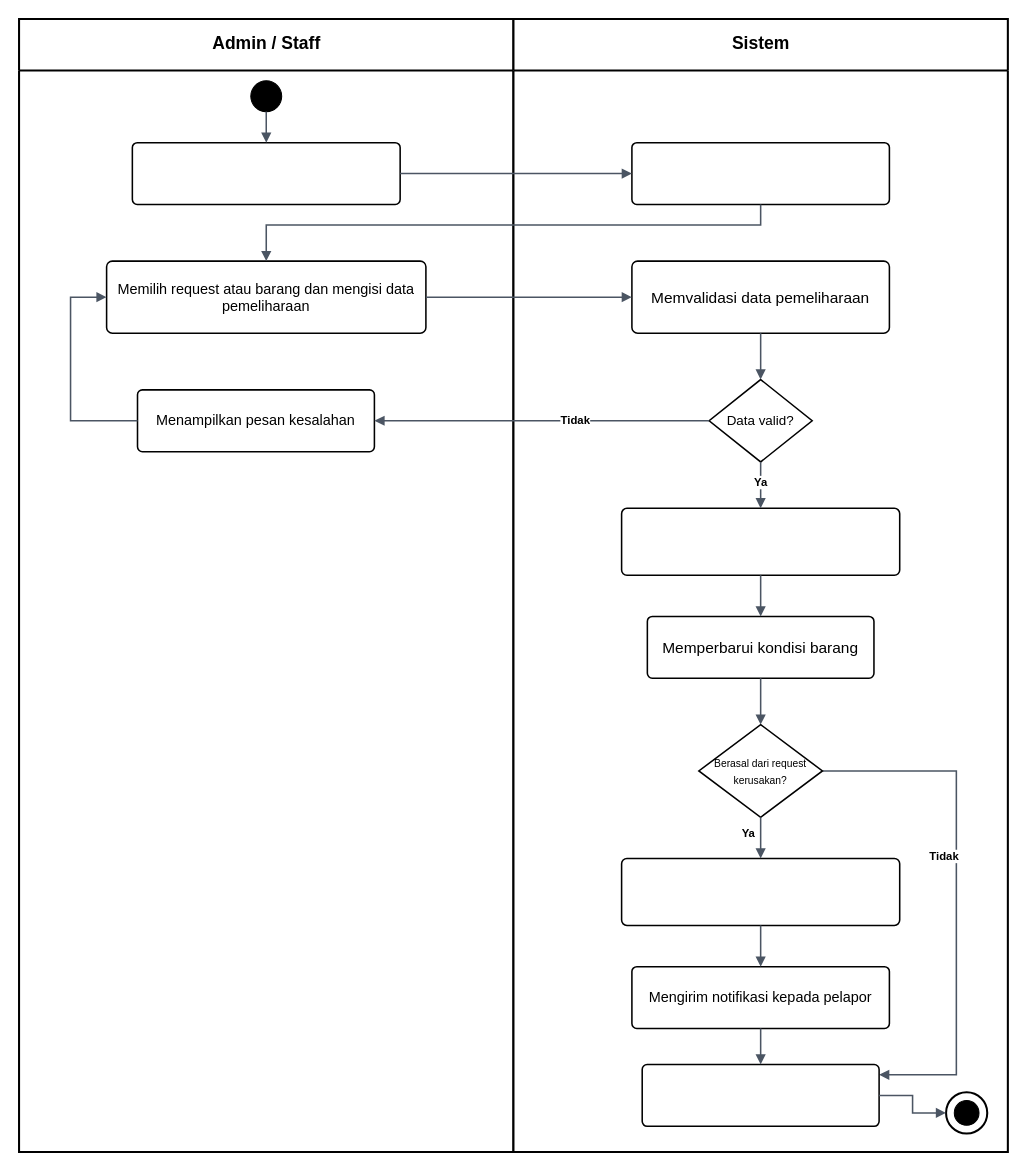
Image size: 1026x1170. Some labels were removed from this diagram. The shapes that lost their labels are listed below. From the top down, each one's centre as x and y in pixels, then its label:
At (265,173): "Memilih Tambah Pemeliharaan".
At (760,173): "Menampilkan formulir pemeliharaan".
At (760,541): "Menyimpan data pemeliharaan setiap barang".
At (760,891): "Mengubah status request menjadi Selesai".
At (760,1095): "Menampilkan hasil pemeliharaan".
